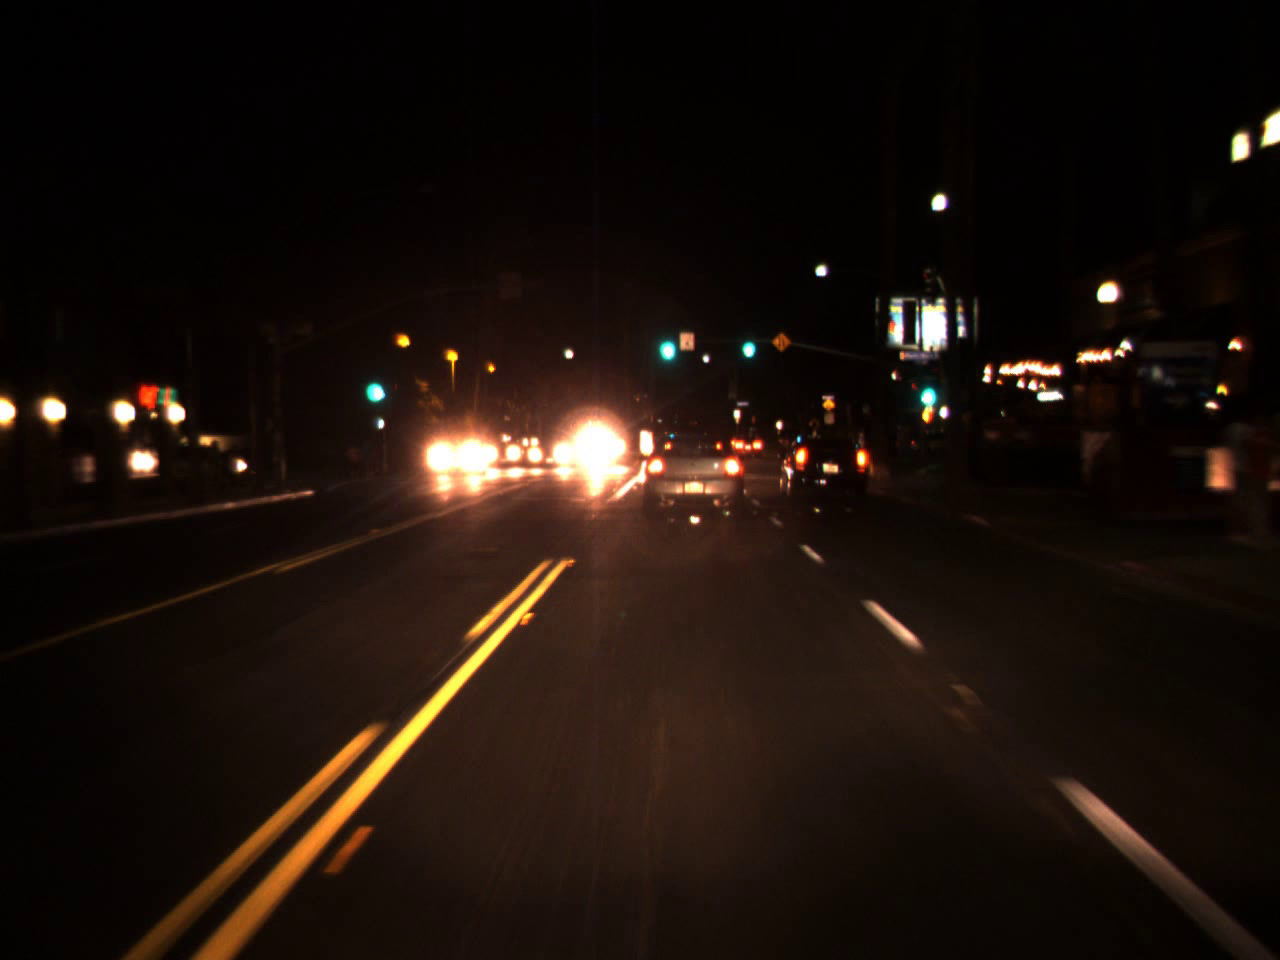go: (652, 315, 679, 369), (361, 358, 386, 409), (914, 365, 939, 413), (738, 326, 757, 359)
